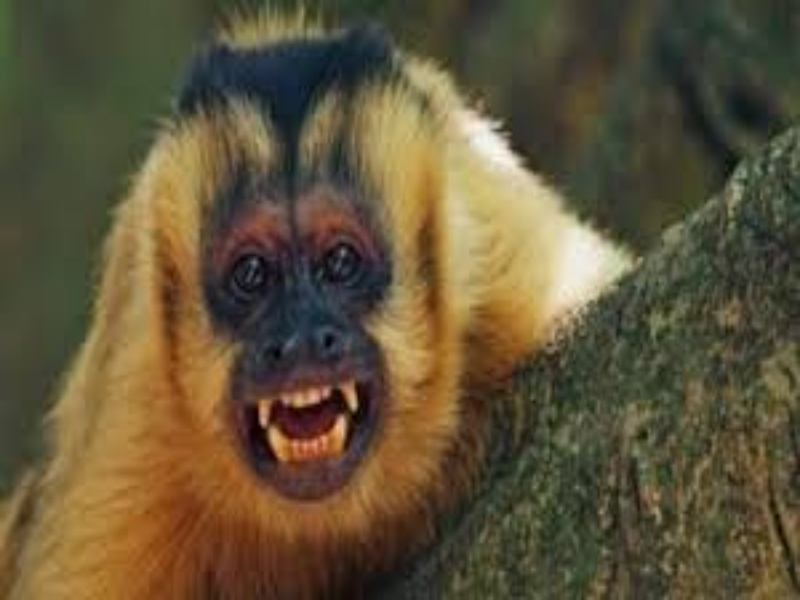monkey: (66, 25, 633, 522)
